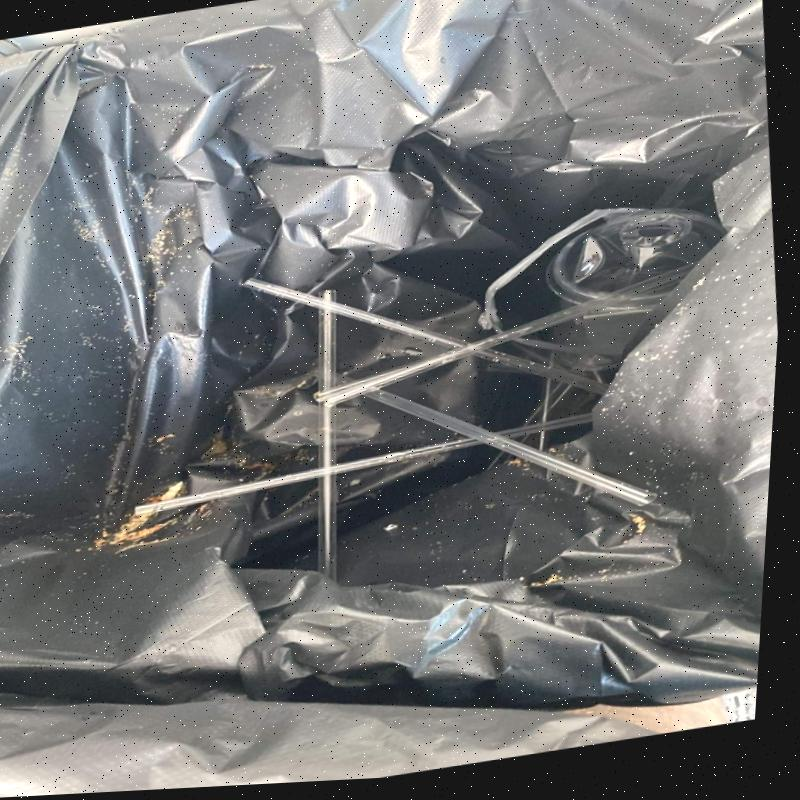plastic container: (545, 208, 727, 372)
plastic straw: (321, 255, 707, 403), (133, 409, 597, 517), (241, 273, 620, 397), (333, 374, 657, 504), (314, 289, 342, 580)
